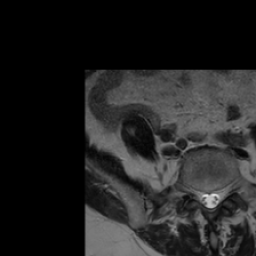CCS_normal: (206, 184, 213, 217)
LFS_normal: (221, 176, 229, 206)
LLS_normal: (213, 184, 221, 214)
RFS_normal: (190, 179, 198, 208)
RLS_normal: (198, 183, 206, 213)
